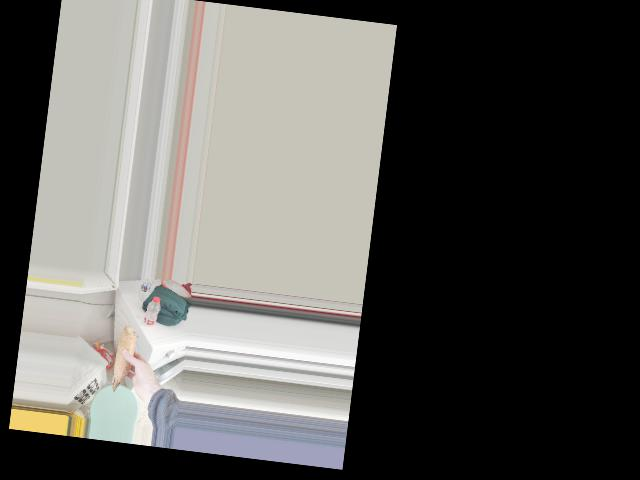sweet_potato: (110, 323, 140, 392)
